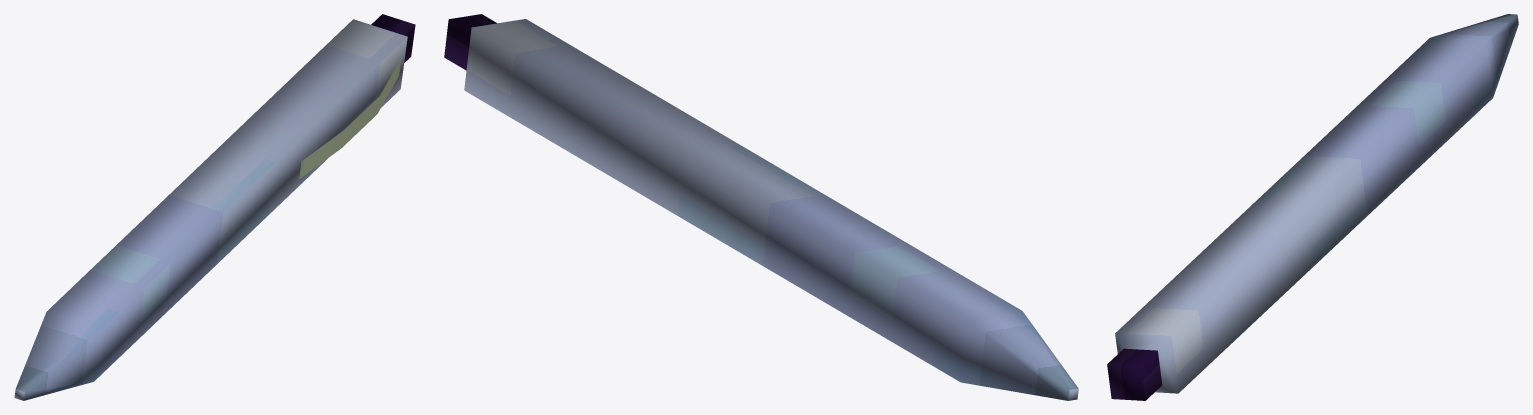
The model's file is pen5.obj.
The picture shows the model from 3 angles, left to right: view 1: azimuth 90°, elevation 25°; view 2: azimuth 150°, elevation 25°; view 3: azimuth 270°, elevation 25°; orthographic projection. The views are drawn at different scales.
Visible parts, largest first — view 1: pen5; view 2: pen5; view 3: pen5.
Part boxes in pixels (x1,y1,x2,y2): pen5: [14, 14, 415, 400]; pen5: [444, 14, 1078, 400]; pen5: [1107, 14, 1518, 400].
Bounding box in the file's own units: 0.2213 × 0.0181 × 0.1038.
